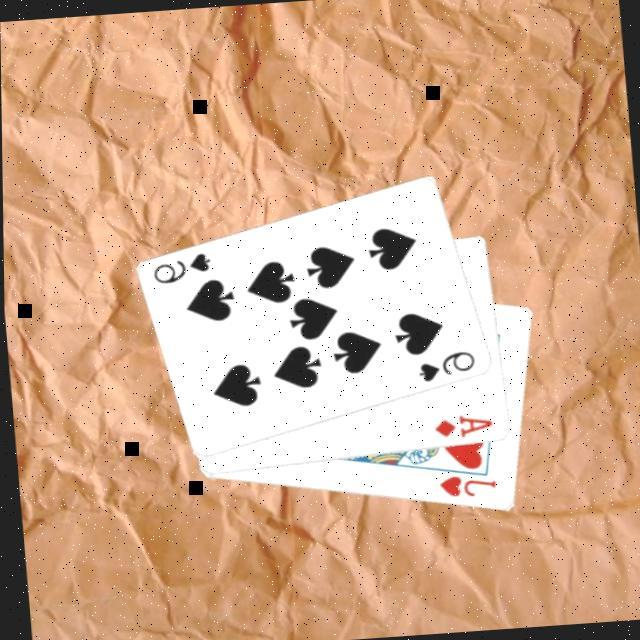9S: (410, 347, 476, 385), (146, 249, 212, 287)
AD: (427, 410, 493, 442)
JH: (431, 469, 497, 502)
